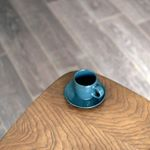cups: (72, 68, 107, 102)
